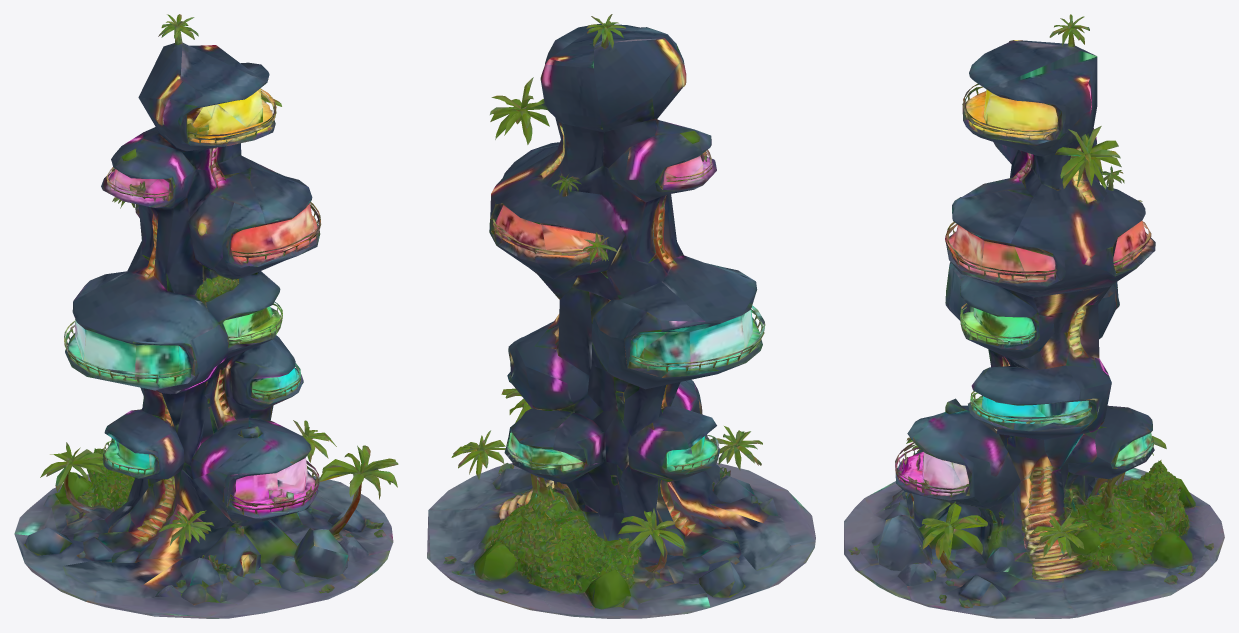
The model's file is bld-apartment-pod-block-lod1.glb.
3 views of the same model, side by side, from view 1: azimuth 30°, elevation 25°; view 2: azimuth 150°, elevation 25°; view 3: azimuth 270°, elevation 25° (orthographic). The views are drawn at different scales.
Parts seen in each view (by area): view 1: Mesh_0; view 2: Mesh_0; view 3: Mesh_0.
Part boxes in pixels (bbox=[...]): Mesh_0: bbox=[14, 14, 398, 618]; Mesh_0: bbox=[427, 14, 815, 618]; Mesh_0: bbox=[844, 14, 1224, 618].
Size of the model in its own units: 1.27 by 1.9 by 1.27.
1 material, 1 textured.
